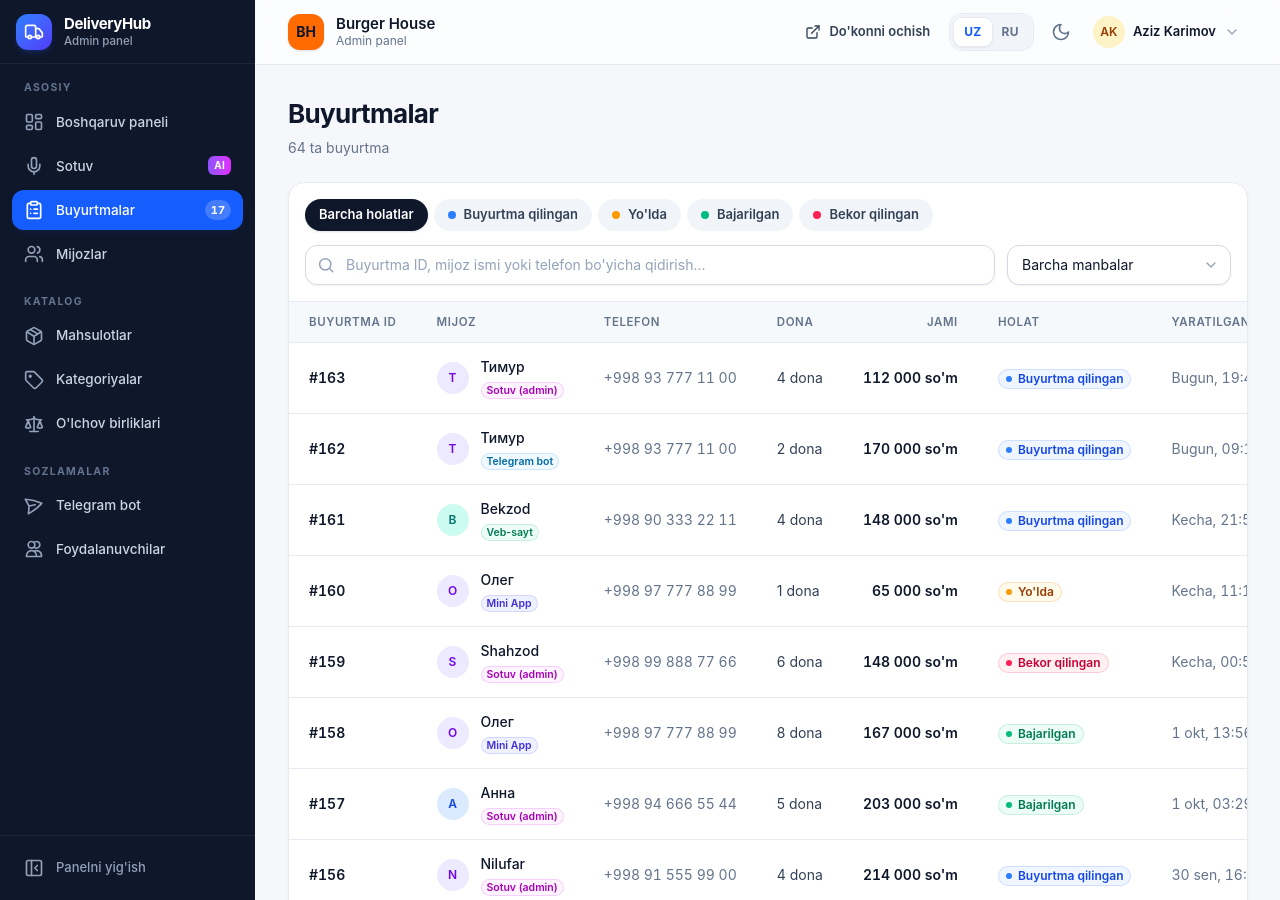
orders list › opens an order from its row
The width and height of the screenshot is (1280, 900).
Click the link "#162" at point(314, 449), box [309,440,345,457]
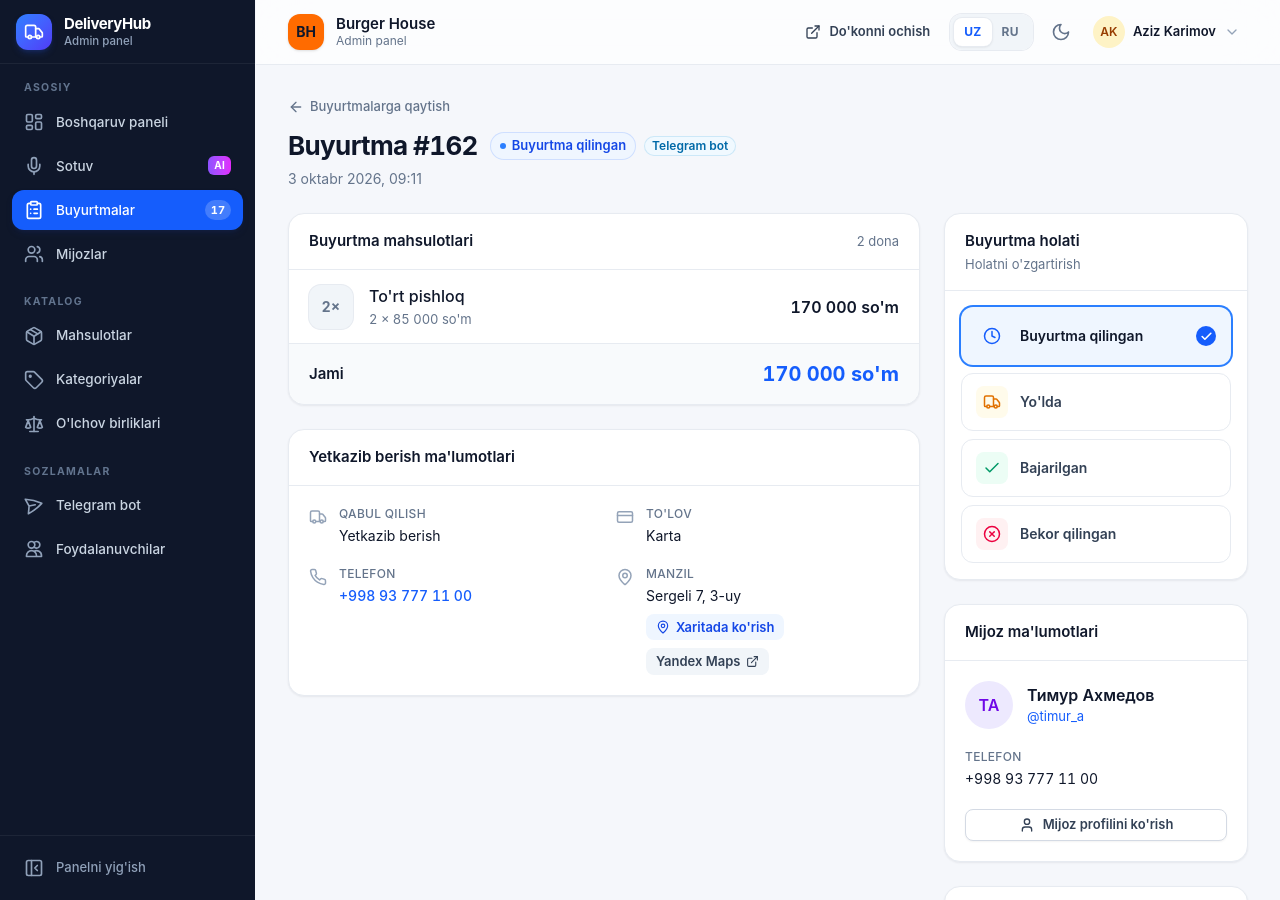
Expected: the heading "Buyurtma #162" is shown, [288,129,478,164]
